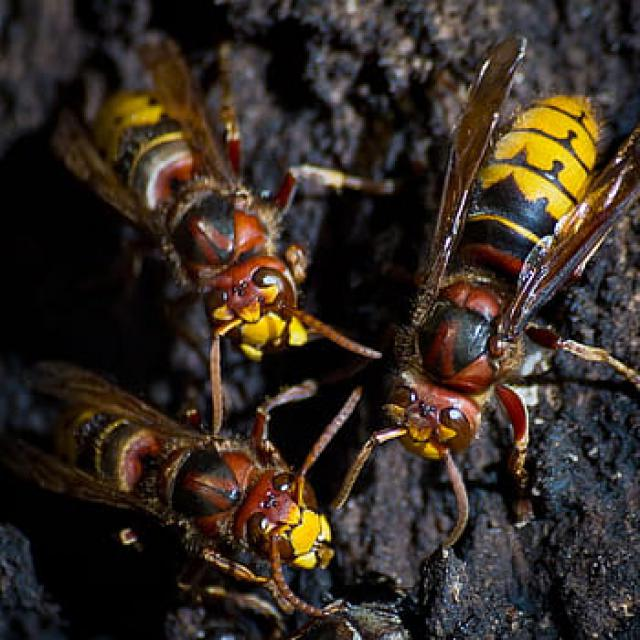Vespa Crabro: (329, 27, 638, 547), (41, 37, 380, 409), (10, 329, 394, 633)
